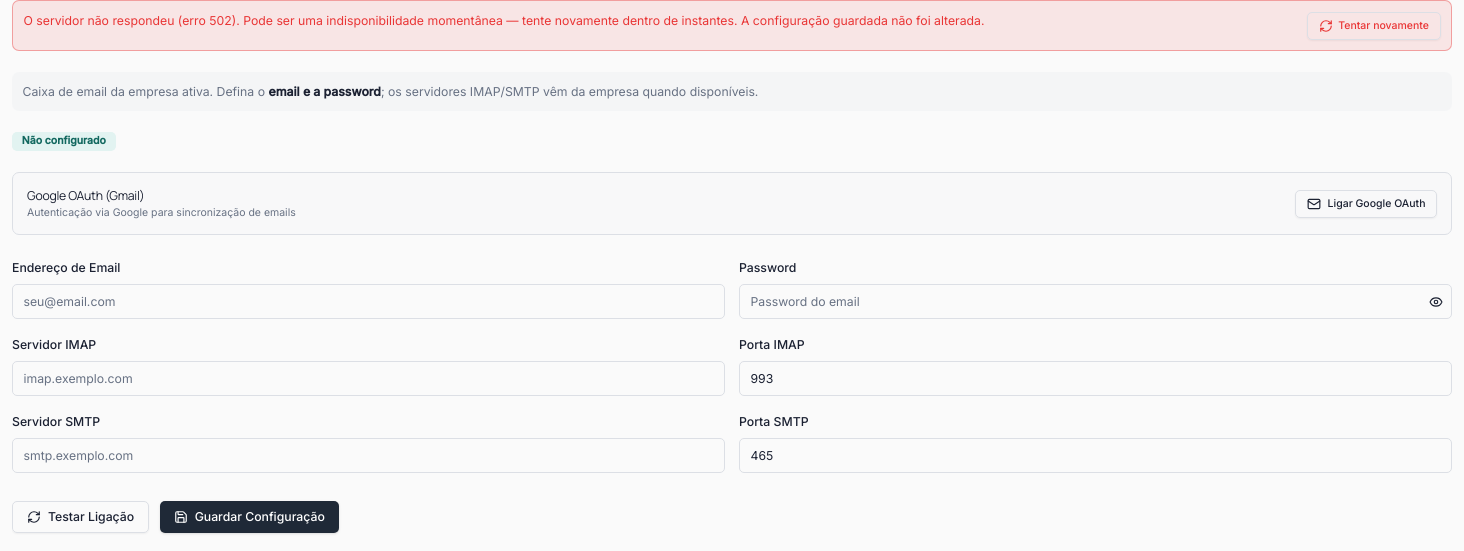
Test case: EmailConfigForm — o servidor falha › a LEITURA da configuração falha (502): diz-se, não rebenta e oferece tentar outra vez
This screenshot has width=1464, height=551.
Expected: the message with test id "email-config-erro-de-leitura" shows "servidor não respondeu", [24, 12, 738, 28]
Expected: the message with test id "email-config-erro-de-leitura" shows "não foi alterada", [738, 12, 984, 28]
Click the button "Tentar novamente". click: (1374, 26)
box: [1307, 12, 1440, 40]
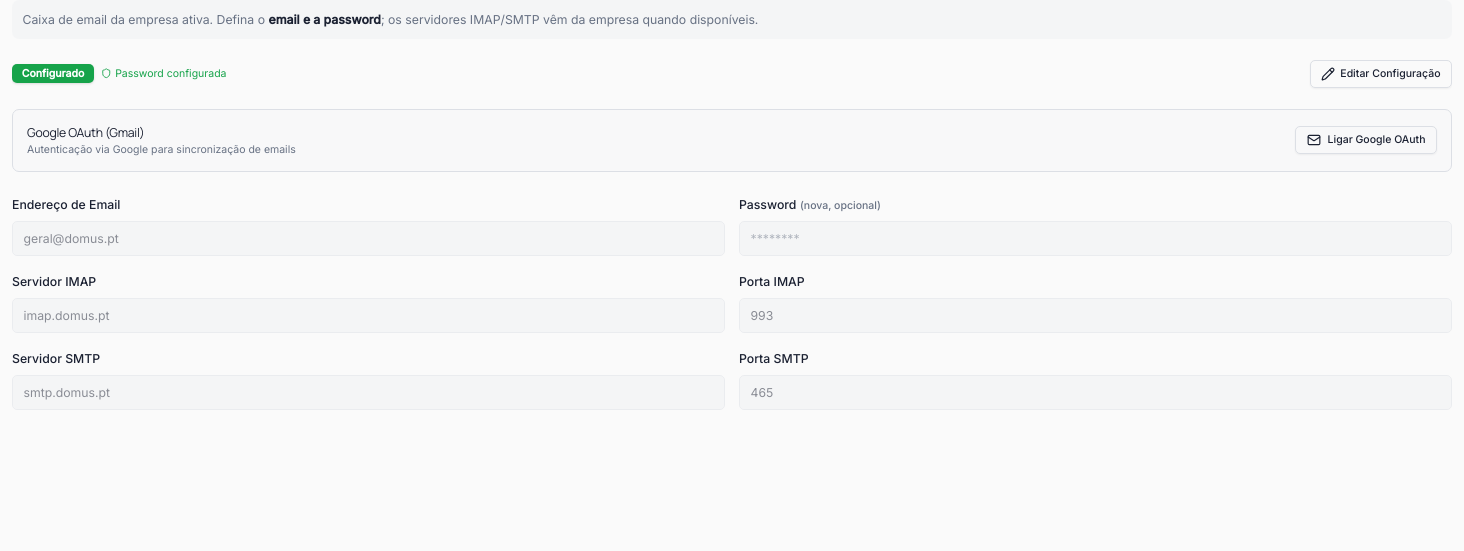
Expected: the message with test id "email-config-erro-de-leitura" is gone
Expected: the button "Editar Configuração" is shown, [1310, 60, 1452, 88]
